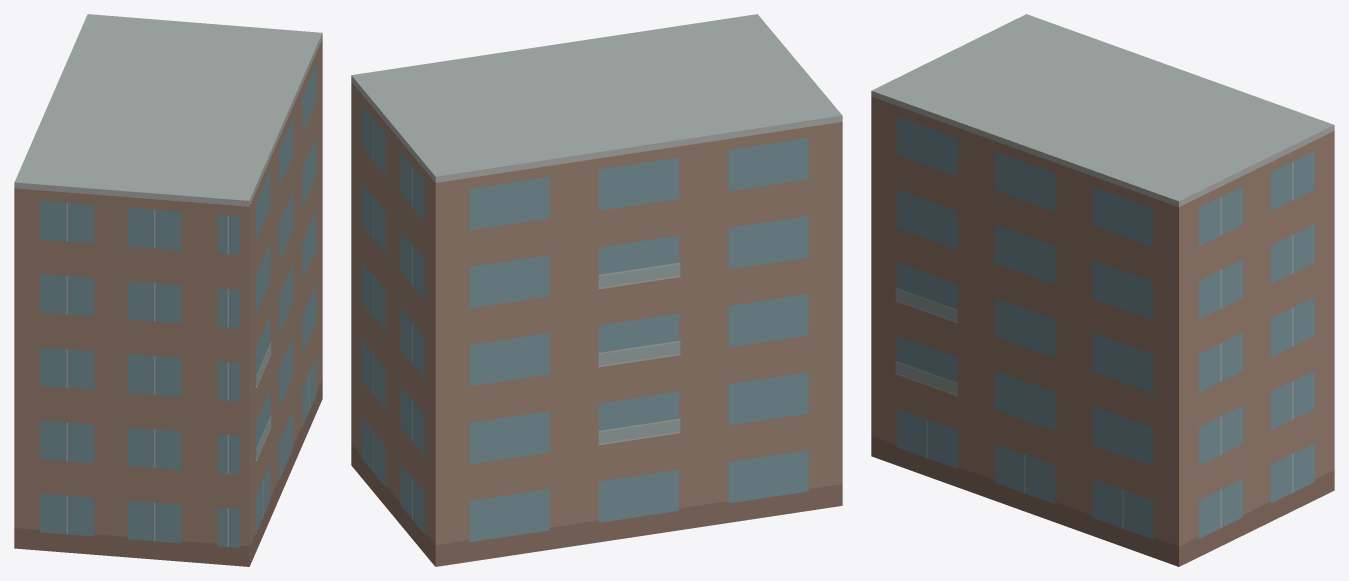
The model's file is survey-upis-32881774.glb.
3 views of the same model, side by side, from view 1: azimuth 30°, elevation 25°; view 2: azimuth 150°, elevation 25°; view 3: azimuth 270°, elevation 25° (orthographic). The views are drawn at different scales.
Parts seen in each view (by area): view 1: survey-upis-32881774.tmp; view 2: survey-upis-32881774.tmp; view 3: survey-upis-32881774.tmp.
Part boxes in pixels (x1,y1,x2,y2): survey-upis-32881774.tmp: (14,14,322,566); survey-upis-32881774.tmp: (351,14,842,566); survey-upis-32881774.tmp: (871,14,1334,566).
Bounding box in the file's own units: 16.78 × 15.25 × 17.53.
